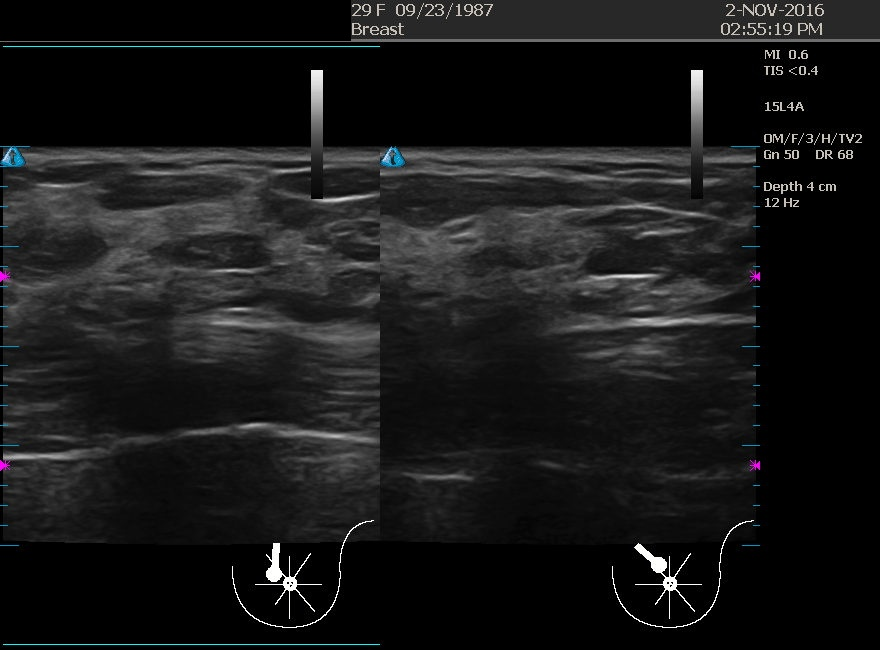BIRADS_3: (104, 150, 304, 350), (488, 152, 688, 352)
